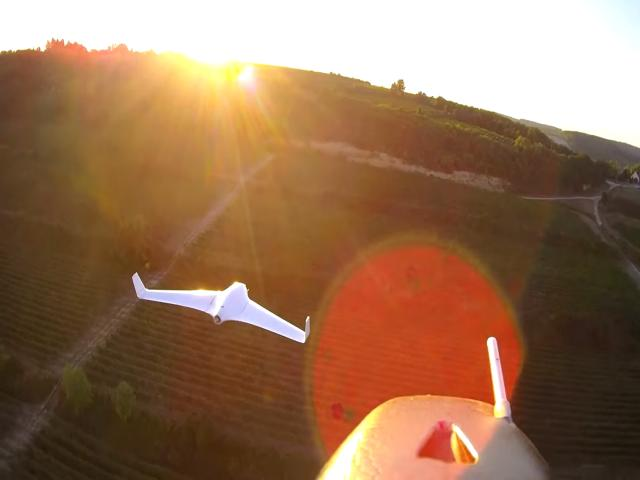plane: (132, 272, 310, 343)
